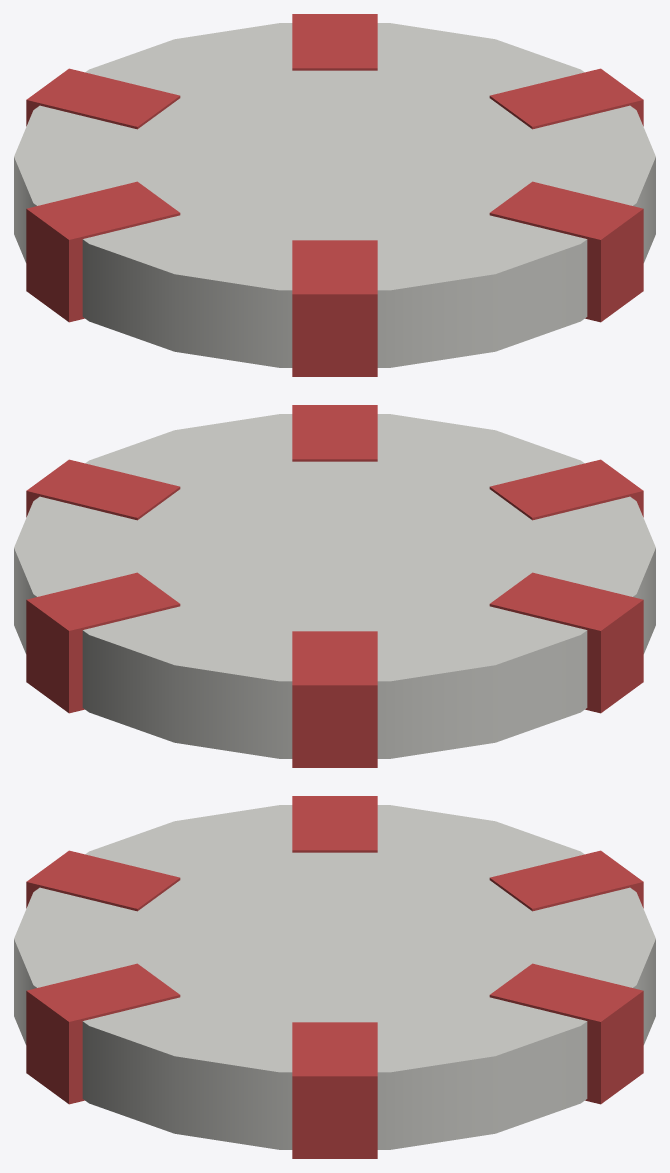
The model's file is chip_feedback.glb.
3 renders of one model, top to bottom at view 1: azimuth 30°, elevation 25°; view 2: azimuth 150°, elevation 25°; view 3: azimuth 270°, elevation 25°, orthographic.
Parts seen in each view (by area): view 1: chip_feedback; view 2: chip_feedback; view 3: chip_feedback.
Boxes of the visible parts, x1,y1,x2,y2 form: chip_feedback: [14, 14, 655, 376]; chip_feedback: [14, 405, 655, 767]; chip_feedback: [14, 796, 655, 1158].
Bounding box in the file's own units: 0.062 × 0.0085 × 0.06.
